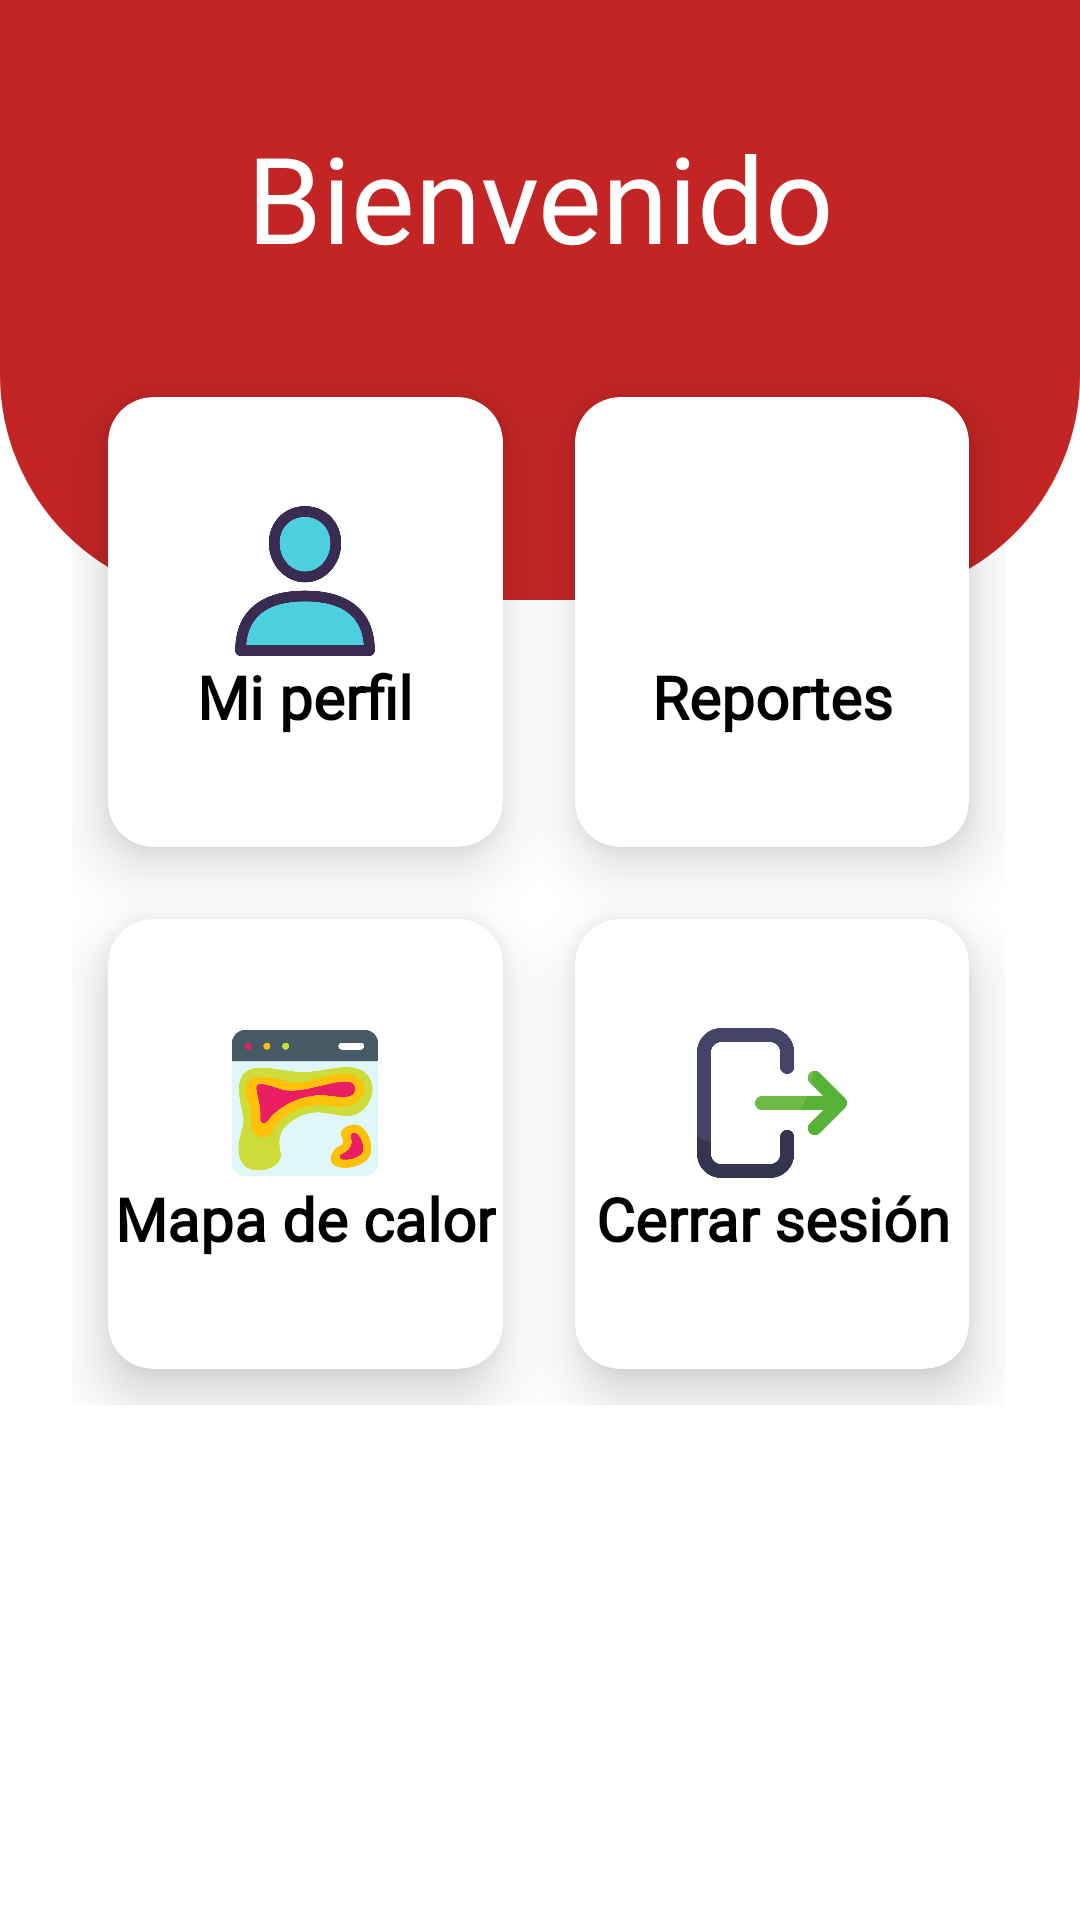

Named icons in this screenshot (1080px x 1920px) and their centers, (x=x, y=y):
usuario: (x=305, y=581)
